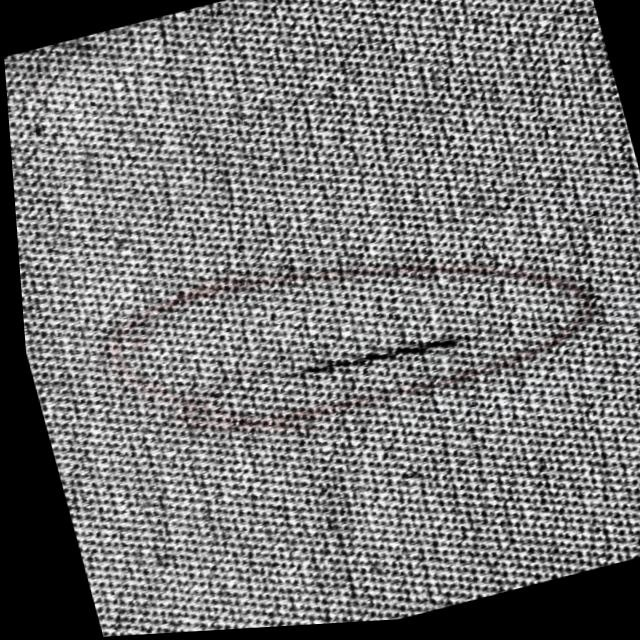Hole: (282, 317, 471, 398)
